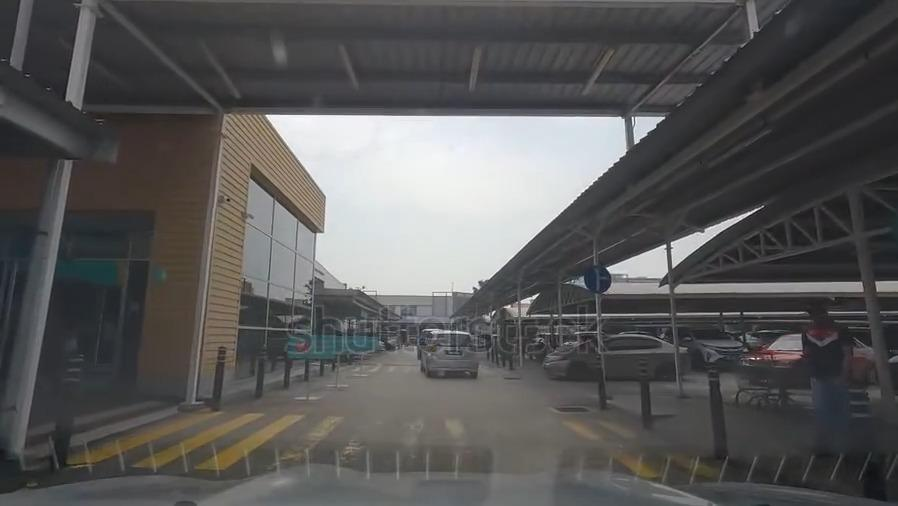car: (743, 332, 879, 385), (544, 337, 690, 384), (665, 326, 744, 363), (418, 333, 477, 382), (421, 331, 433, 353)
manhole: (546, 403, 591, 414), (505, 375, 522, 383)
pedestrian: (37, 410, 721, 472), (348, 363, 516, 379)
person: (802, 303, 853, 453)
speedbump: (358, 359, 497, 369)
